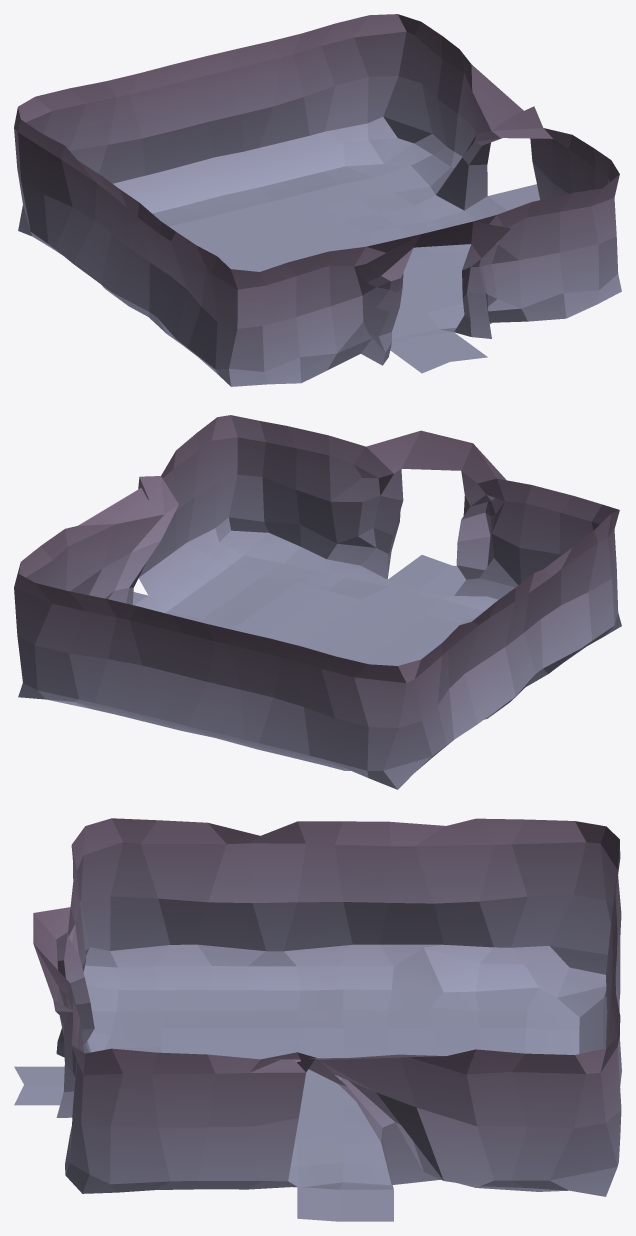
File: Zone7.glb
3 views of the same model, one above another, from view 1: azimuth 30°, elevation 25°; view 2: azimuth 150°, elevation 25°; view 3: azimuth 270°, elevation 25° (orthographic). The views are drawn at different scales.
Visible parts, largest first — view 1: Plane; view 2: Plane; view 3: Plane.
Boxes of the visible parts, left/top/right/bottom form: Plane: left=14, top=14, right=621, bottom=386; Plane: left=14, top=415, right=621, bottom=789; Plane: left=14, top=818, right=621, bottom=1221.
Bounding box in the file's own units: 22.66 × 6.59 × 22.24.
1 material, 1 textured.
